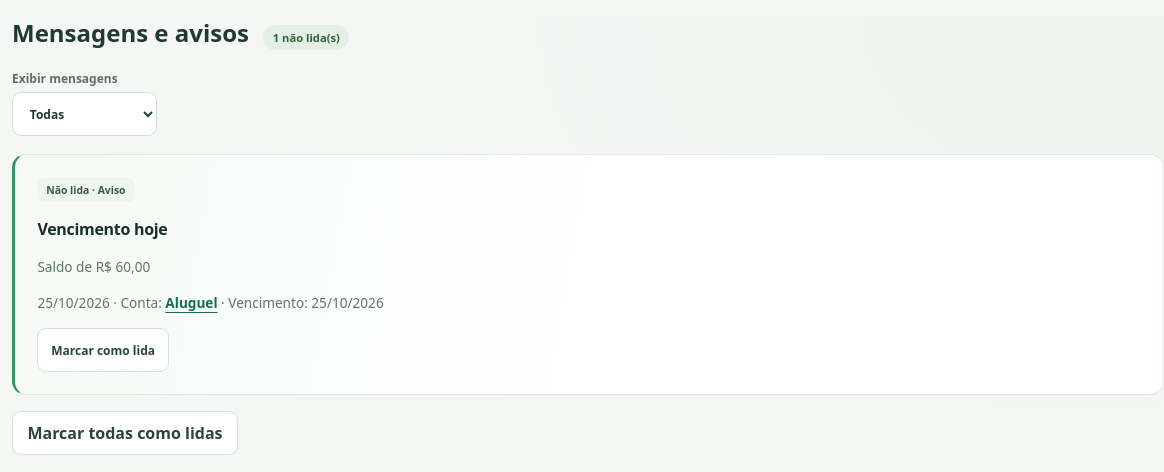
Scenario: desabilita botão durante leitura pendente
Click the button "Marcar como lida" at (103, 350), box top-left (37, 328), bottom-right (169, 372)
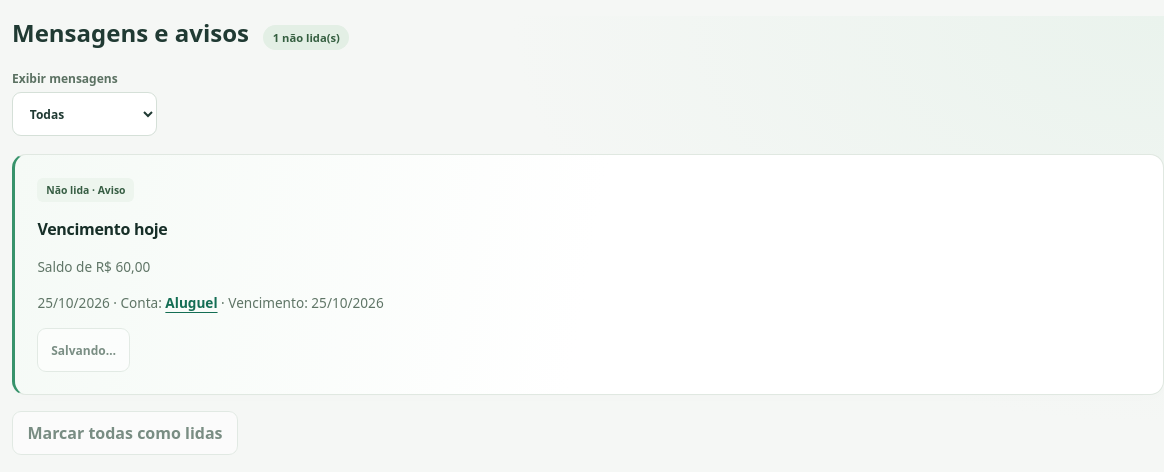
Expected: the button "Salvando…" is disabled, top-left (37, 328), bottom-right (130, 372)
Expected: the text "Salvando" is shown, top-left (37, 328), bottom-right (130, 372)
